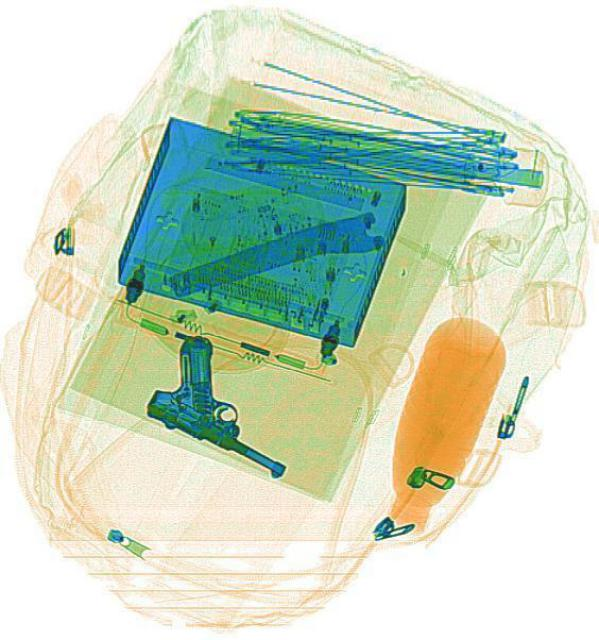Gun: (136, 324, 323, 482)
